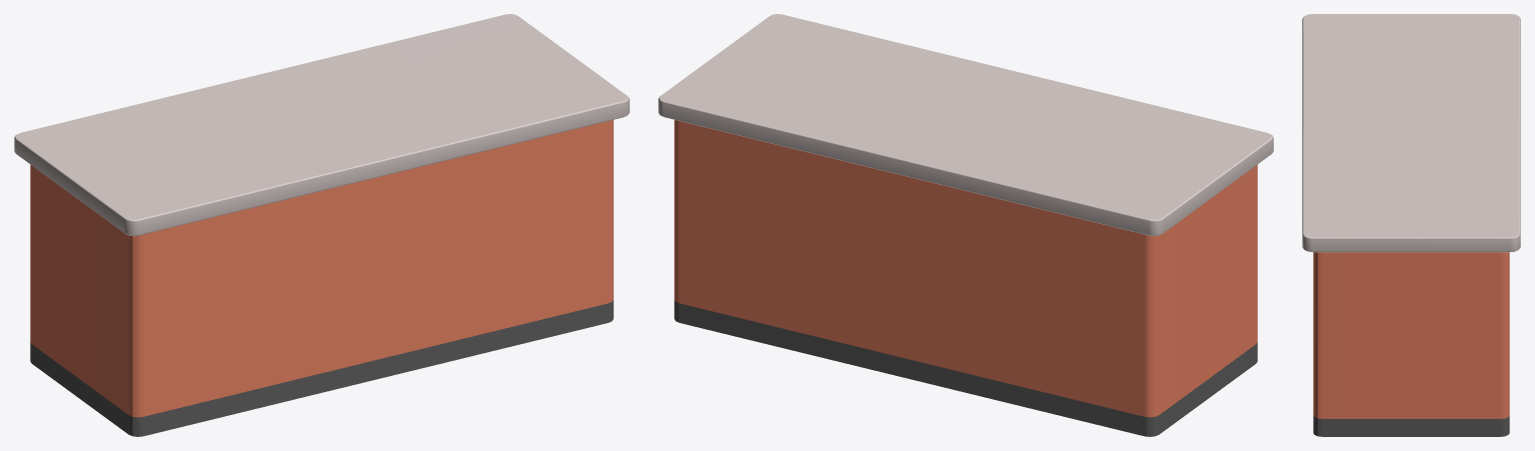
The model's file is Mixed_Table_01.fbx.
3 renders of one model, left to right at view 1: azimuth 30°, elevation 25°; view 2: azimuth 150°, elevation 25°; view 3: azimuth 270°, elevation 25°, orthographic. The views are drawn at different scales.
Visible parts, largest first — view 1: Mixed_Table_01; view 2: Mixed_Table_01; view 3: Mixed_Table_01.
Boxes of the visible parts, left/top/right/bottom form: Mixed_Table_01: left=14, top=14, right=629, bottom=436; Mixed_Table_01: left=658, top=14, right=1273, bottom=436; Mixed_Table_01: left=1302, top=14, right=1520, bottom=436.
Size of the model in its own units: 401 by 170 by 165.
